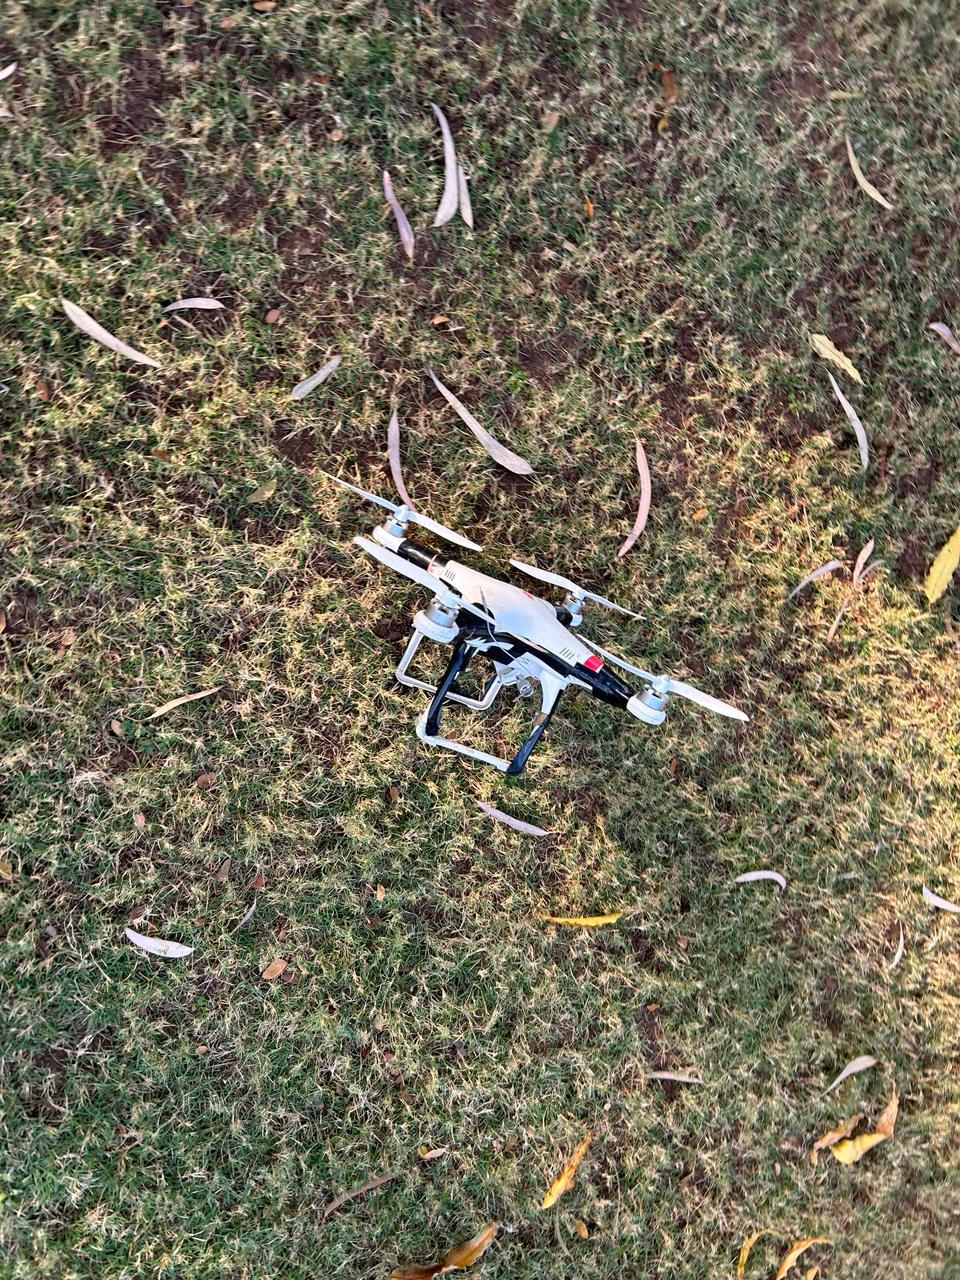drone: (257, 407, 831, 861)
